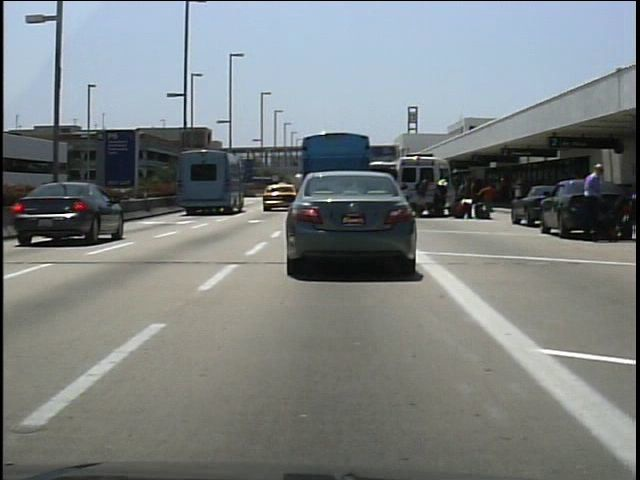person: (578, 158, 612, 243), (430, 175, 451, 222), (413, 173, 432, 220), (456, 176, 476, 220), (478, 180, 497, 223)
